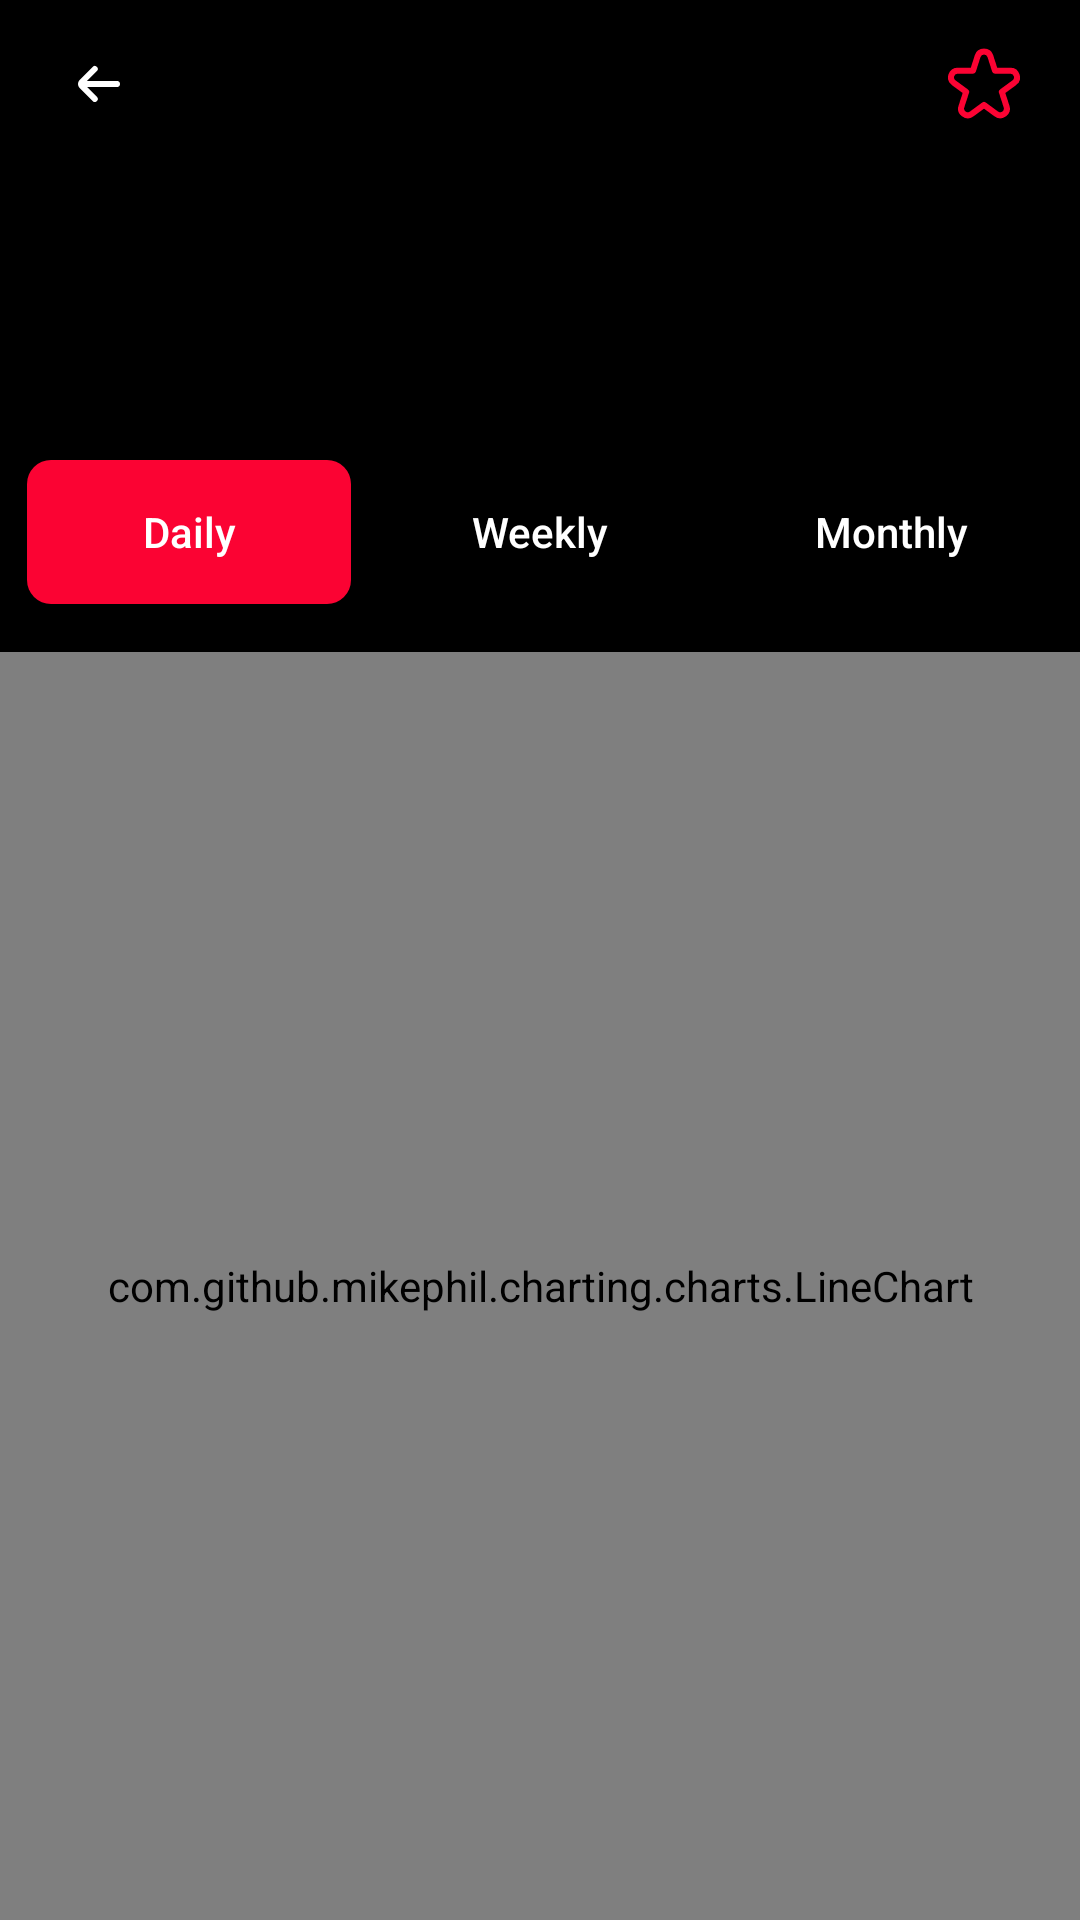

Named icons in this screenshot (1080 x 1920) and their bounding boxes, (x1, y1, x2, y2):
backstack: (78, 65, 120, 102)
star: (948, 48, 1020, 119)
